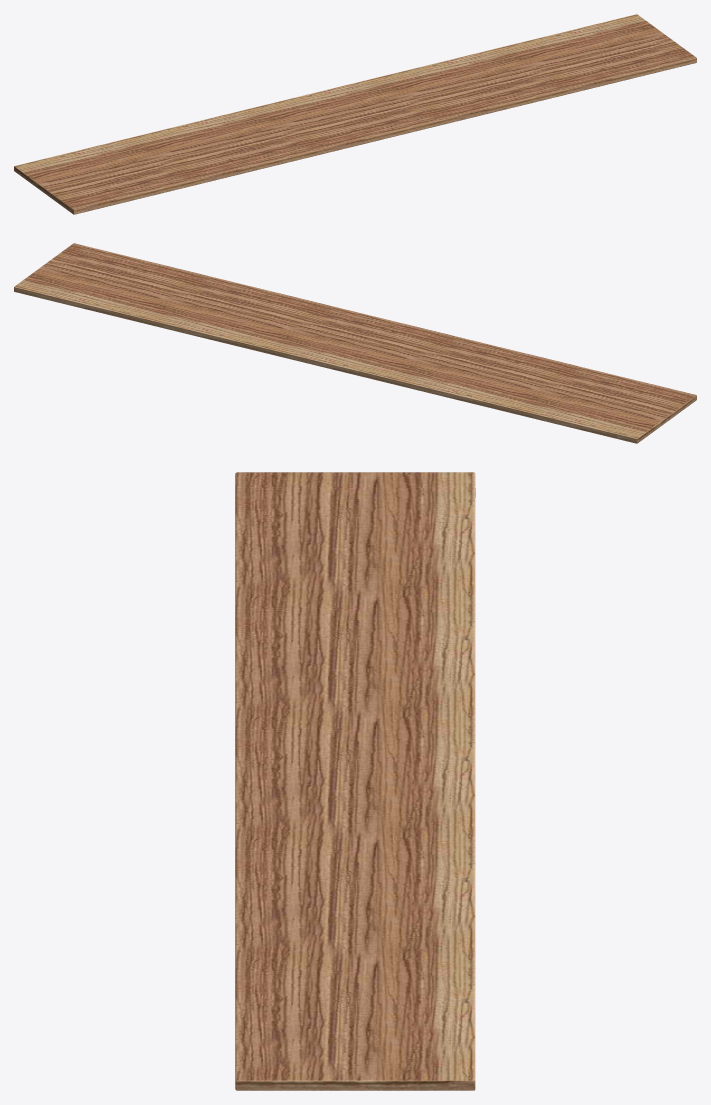
File: cabinet_cover_plate_240_finala.fbx
The picture shows the model from 3 angles, top to bottom: view 1: azimuth 30°, elevation 25°; view 2: azimuth 150°, elevation 25°; view 3: azimuth 270°, elevation 25°; orthographic projection. The views are drawn at different scales.
Visible parts, largest first — view 1: BLAT_240; view 2: BLAT_240; view 3: BLAT_240.
Boxes of the visible parts, x1,y1,x2,y2 form: BLAT_240: (14, 14, 696, 214); BLAT_240: (14, 243, 696, 443); BLAT_240: (235, 472, 475, 1090).
Size of the model in its own units: 240 by 1.9 by 40.01.
